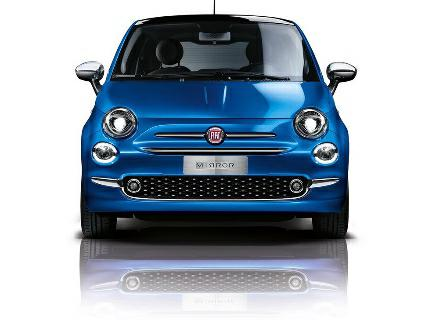菲亚特-500: (73, 8, 362, 250)
